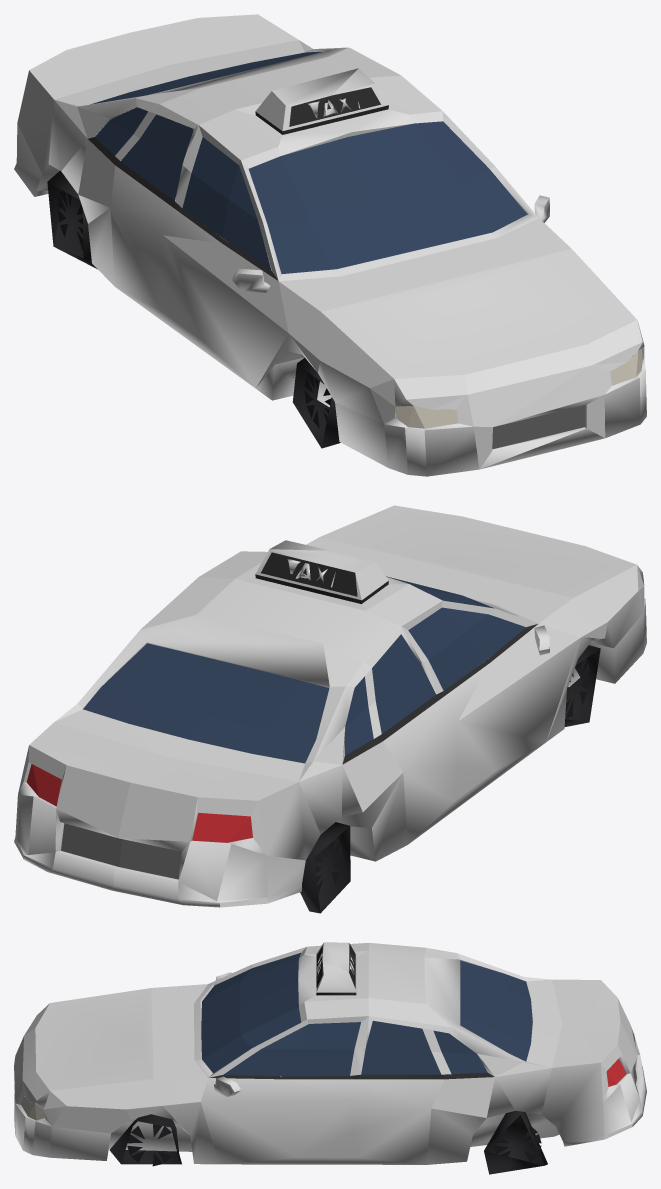
The model's file is taxi-lo.glb.
3 renders of one model, top to bottom at view 1: azimuth 30°, elevation 25°; view 2: azimuth 150°, elevation 25°; view 3: azimuth 270°, elevation 25°, orthographic. The views are drawn at different scales.
Visible parts, largest first — view 1: paint, glass, trim, tyre, light; view 2: paint, glass, trim, tyre, light; view 3: paint, glass, tyre, trim, light.
Part boxes in pixels (bbox=[...]): paint: bbox=[14, 14, 646, 476]; glass: bbox=[91, 52, 527, 273]; trim: bbox=[88, 87, 584, 449]; tyre: bbox=[47, 171, 340, 448]; light: bbox=[395, 348, 642, 428]; paint: bbox=[14, 505, 646, 907]; glass: bbox=[83, 576, 525, 763]; trim: bbox=[61, 552, 537, 879]; tyre: bbox=[300, 645, 600, 913]; light: bbox=[26, 764, 252, 842]; paint: bbox=[14, 942, 646, 1164]; glass: bbox=[201, 953, 532, 1076]; tyre: bbox=[109, 1110, 547, 1174]; trim: bbox=[209, 943, 636, 1083]; light: bbox=[21, 1058, 626, 1120].
Bounding box in the file's own units: 1.97 × 1.46 × 4.6.
